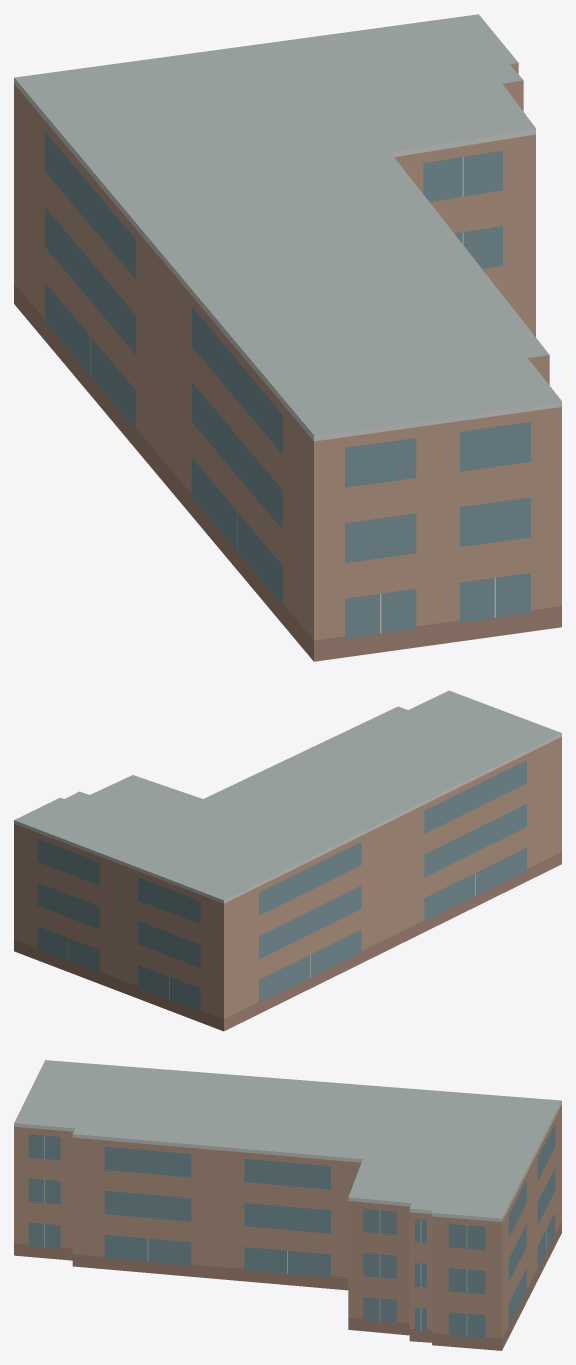
Rendered from survey-upis-32965477.glb.
The picture shows the model from 3 angles, top to bottom: view 1: azimuth 30°, elevation 25°; view 2: azimuth 150°, elevation 25°; view 3: azimuth 270°, elevation 25°; orthographic projection. The views are drawn at different scales.
Parts seen in each view (by area): view 1: survey-upis-32965477.tmp; view 2: survey-upis-32965477.tmp; view 3: survey-upis-32965477.tmp.
Boxes of the visible parts, box(x1,y1,x2,y2) form: survey-upis-32965477.tmp: box(14, 14, 561, 661); survey-upis-32965477.tmp: box(14, 690, 561, 1031); survey-upis-32965477.tmp: box(14, 1060, 561, 1350).
Bounding box in the file's own units: 23.5 × 9.15 × 34.33.
